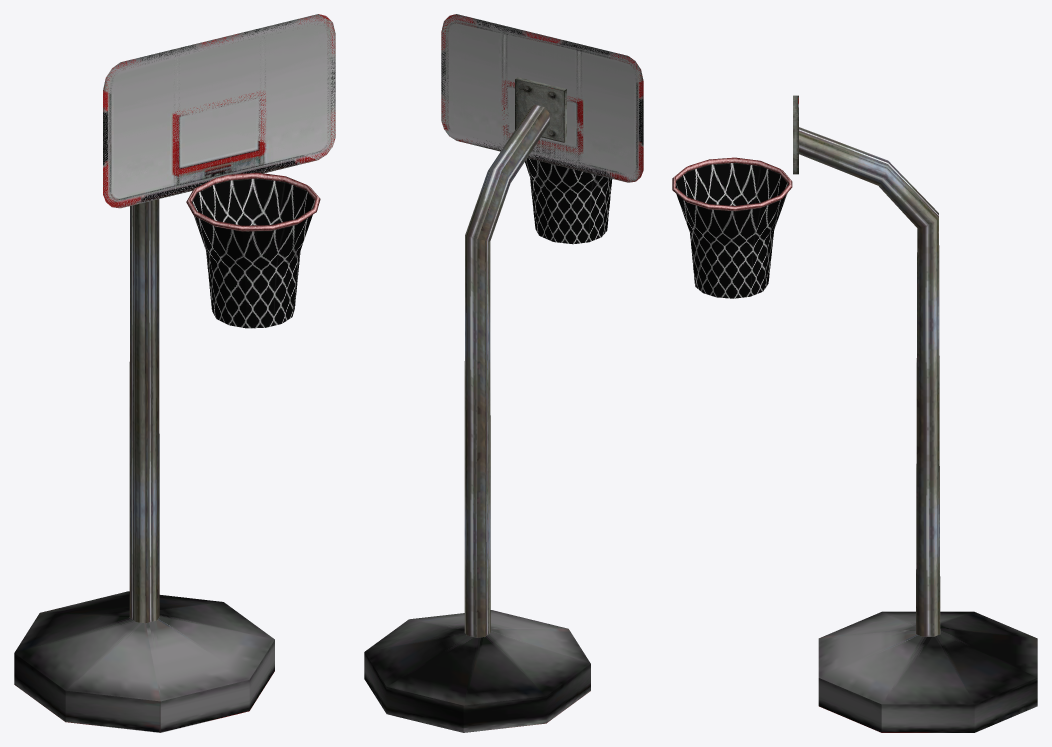
File: basketball_hoop_indoor.fbx
The picture shows the model from 3 angles, left to right: view 1: azimuth 30°, elevation 25°; view 2: azimuth 150°, elevation 25°; view 3: azimuth 270°, elevation 25°; orthographic projection. The views are drawn at different scales.
Visible parts, largest first — view 1: mesh_0, mesh_1; view 2: mesh_0, mesh_1; view 3: mesh_0, mesh_1.
Boxes of the visible parts, bbox=[...] form: mesh_0: bbox=[14, 14, 335, 732]; mesh_1: bbox=[192, 178, 315, 328]; mesh_0: bbox=[364, 14, 643, 732]; mesh_1: bbox=[525, 158, 612, 244]; mesh_0: bbox=[672, 95, 1037, 732]; mesh_1: bbox=[676, 163, 788, 298].
Bounding box in the file's own units: 104 × 296 × 156.
2 materials, 2 textured.
